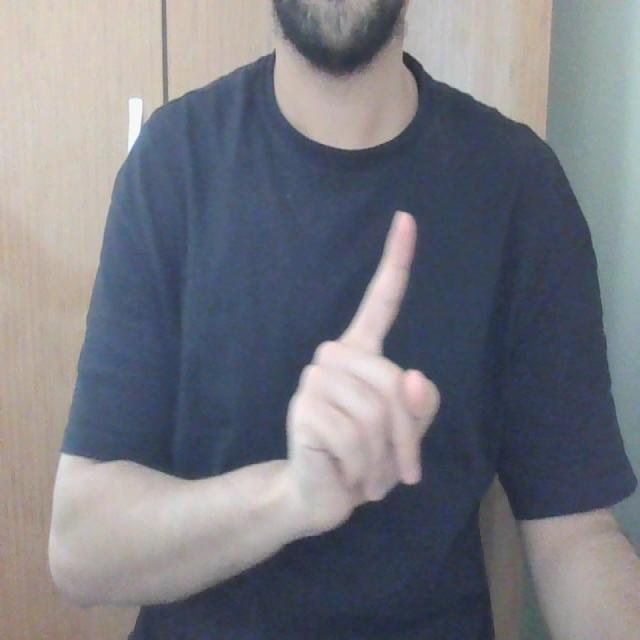Hayir: (283, 144, 440, 546)
